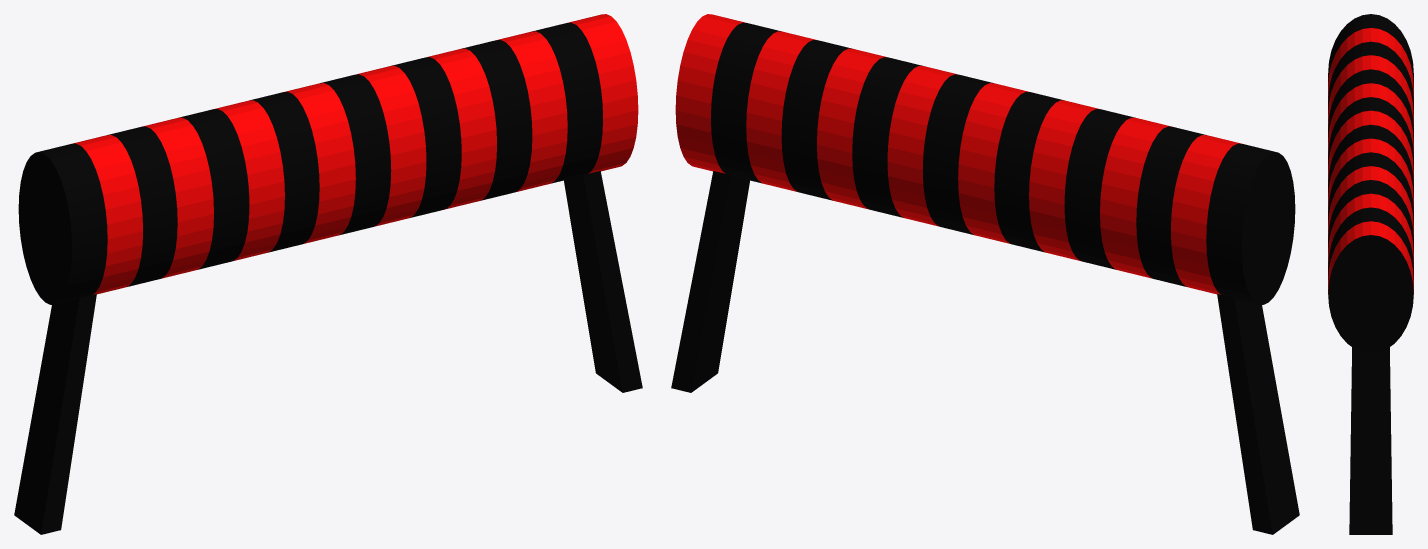
File: Obstacle.fbx
3 views of the same model, side by side, from view 1: azimuth 30°, elevation 25°; view 2: azimuth 150°, elevation 25°; view 3: azimuth 270°, elevation 25° (orthographic). The views are drawn at different scales.
Visible parts, largest first — view 1: Cylinder, Stand; view 2: Cylinder, Stand; view 3: Cylinder, Stand.
Part boxes in pixels (x1=…): Cylinder: x1=18, y1=14, x2=638, y2=304; Stand: x1=14, y1=157, x2=642, y2=534; Cylinder: x1=675, y1=14, x2=1295, y2=304; Stand: x1=671, y1=155, x2=1299, y2=534; Cylinder: x1=1328, y1=14, x2=1413, y2=353; Stand: x1=1349, y1=242, x2=1392, y2=534.
Bounding box in the file's own units: 850 × 495 × 131.
